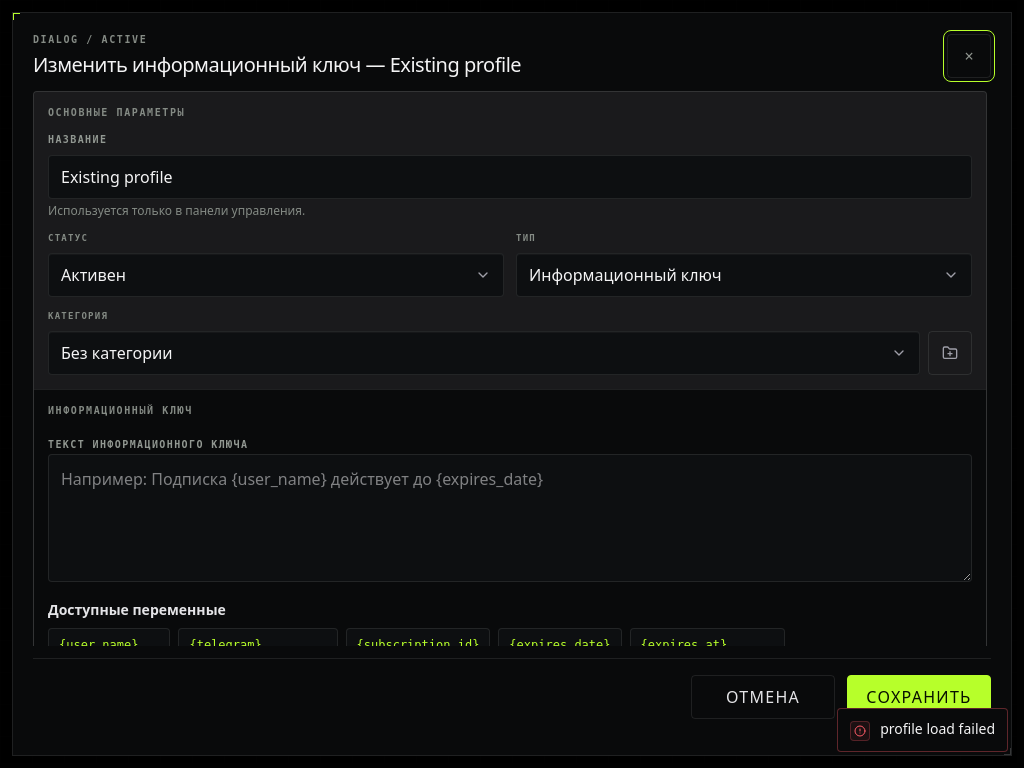
Test: pending reveal and credential provenance contracts › does not create a replacement profile when the requested edit failed to load
This screenshot has width=1024, height=768.
Expected: the text "profile load failed" is shown, [880,719,995,739]
In the text box labelled "Текст информационного ключа": (510, 518) [48,454,972,582], type "local template"
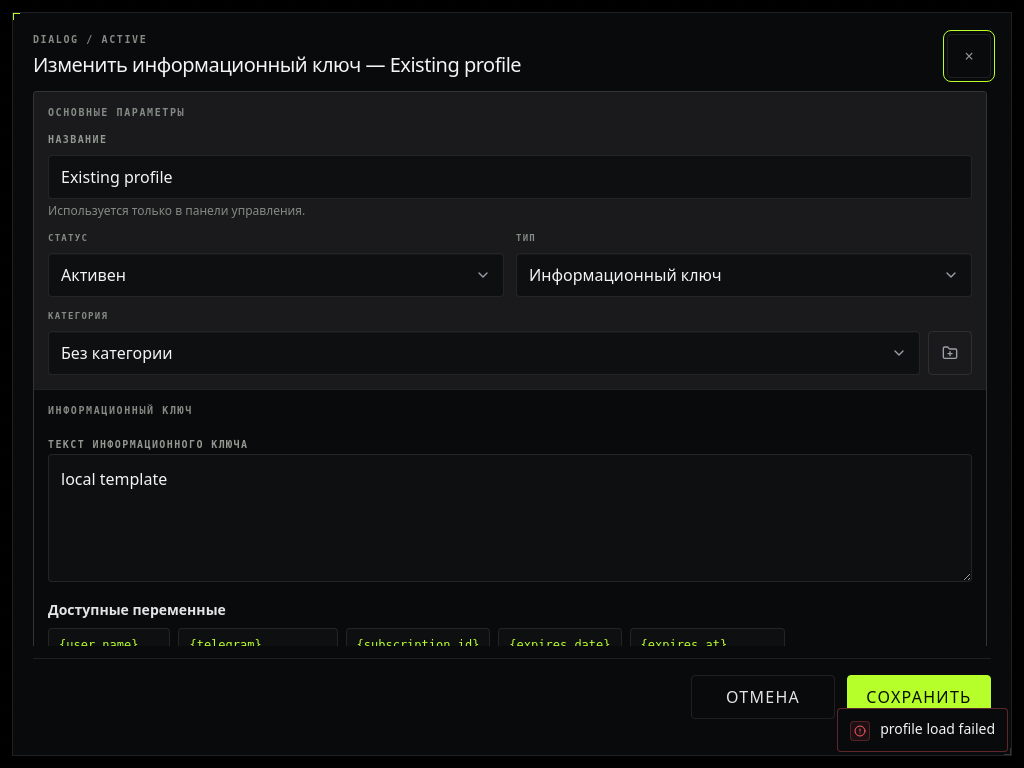
Click the button "Сохранить": click(919, 697) [847,675,991,719]
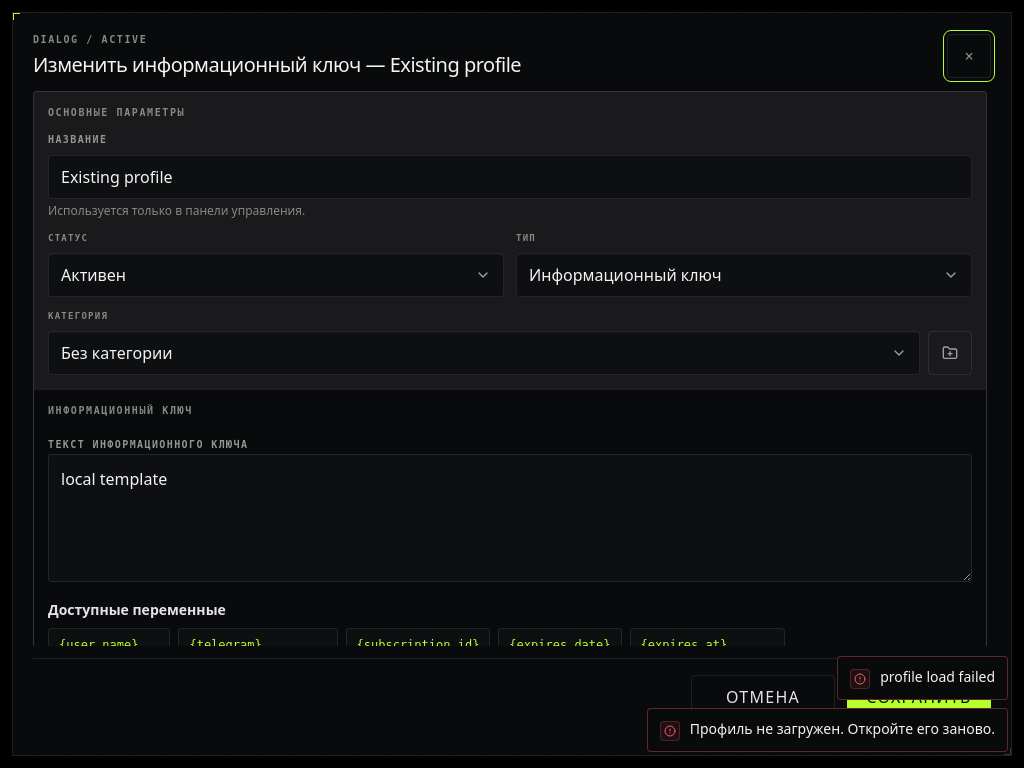
Now the text "Профиль не загружен. Откройте его заново." is shown, box [690,719,995,739]
